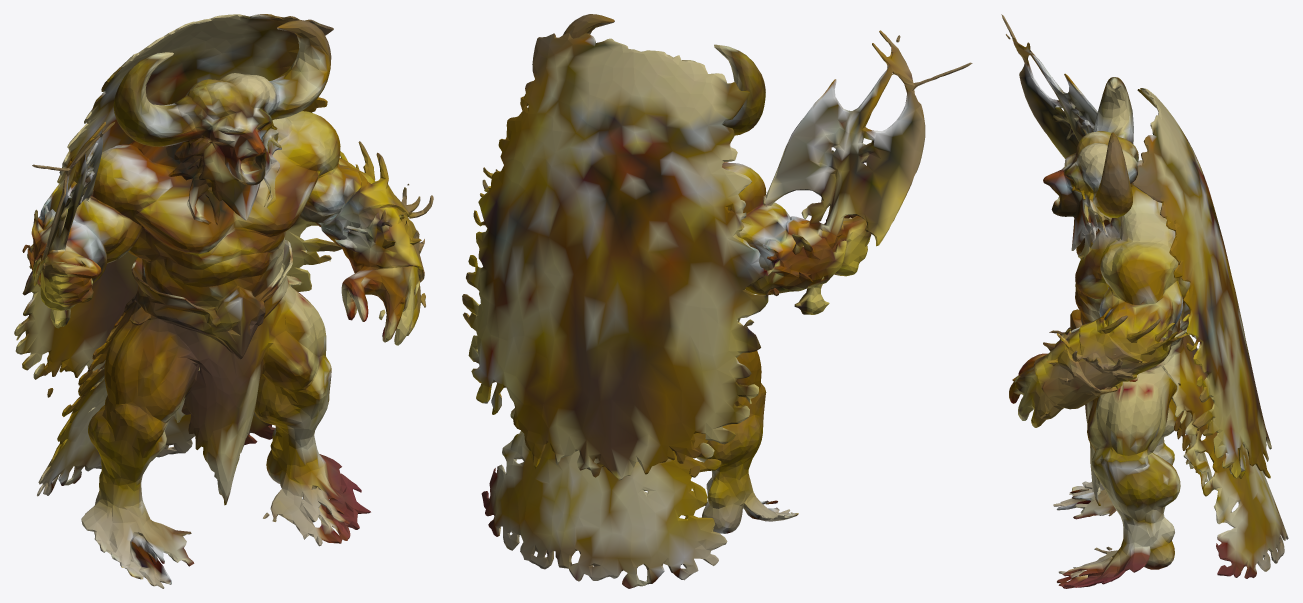
Rendered from kingSlime.glb.
3 renders of one model, left to right at view 1: azimuth 30°, elevation 25°; view 2: azimuth 150°, elevation 25°; view 3: azimuth 270°, elevation 25°, orthographic. The views are drawn at different scales.
Visible parts, largest first — view 1: world; view 2: world; view 3: world.
Boxes of the visible parts, x1,y1,x2,y2 form: world: (14,14,433,588); world: (462,14,972,588); world: (1001,14,1288,588).
Bounding box in the file's own units: 0.9233 × 1 × 0.5919.
